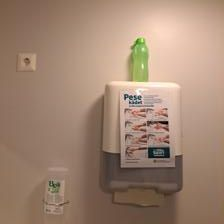bottle: (126, 35, 151, 85)
